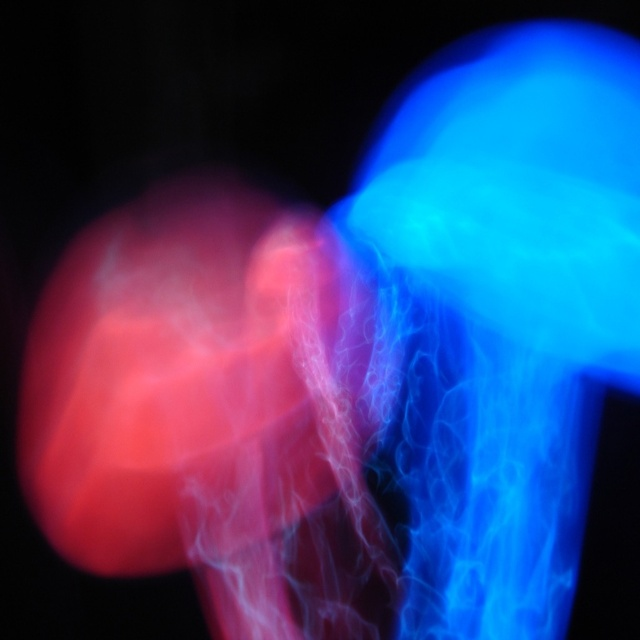Jellyfish: (322, 22, 640, 639), (0, 153, 433, 589)
